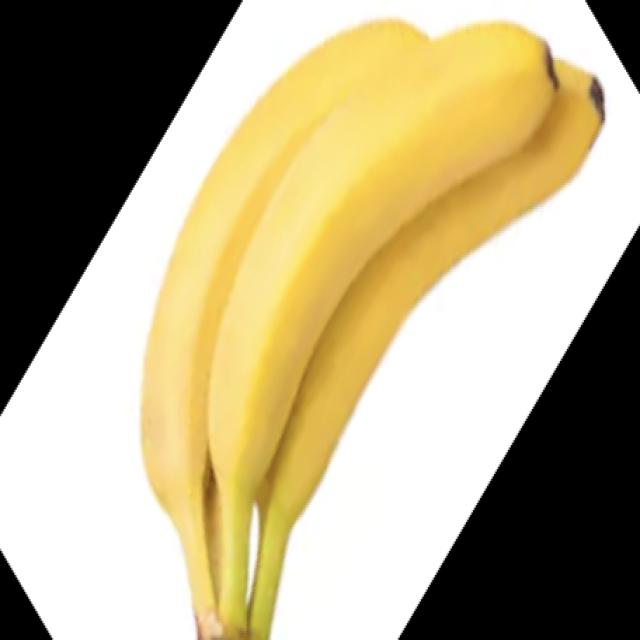god quality banana: (142, 22, 606, 639)
